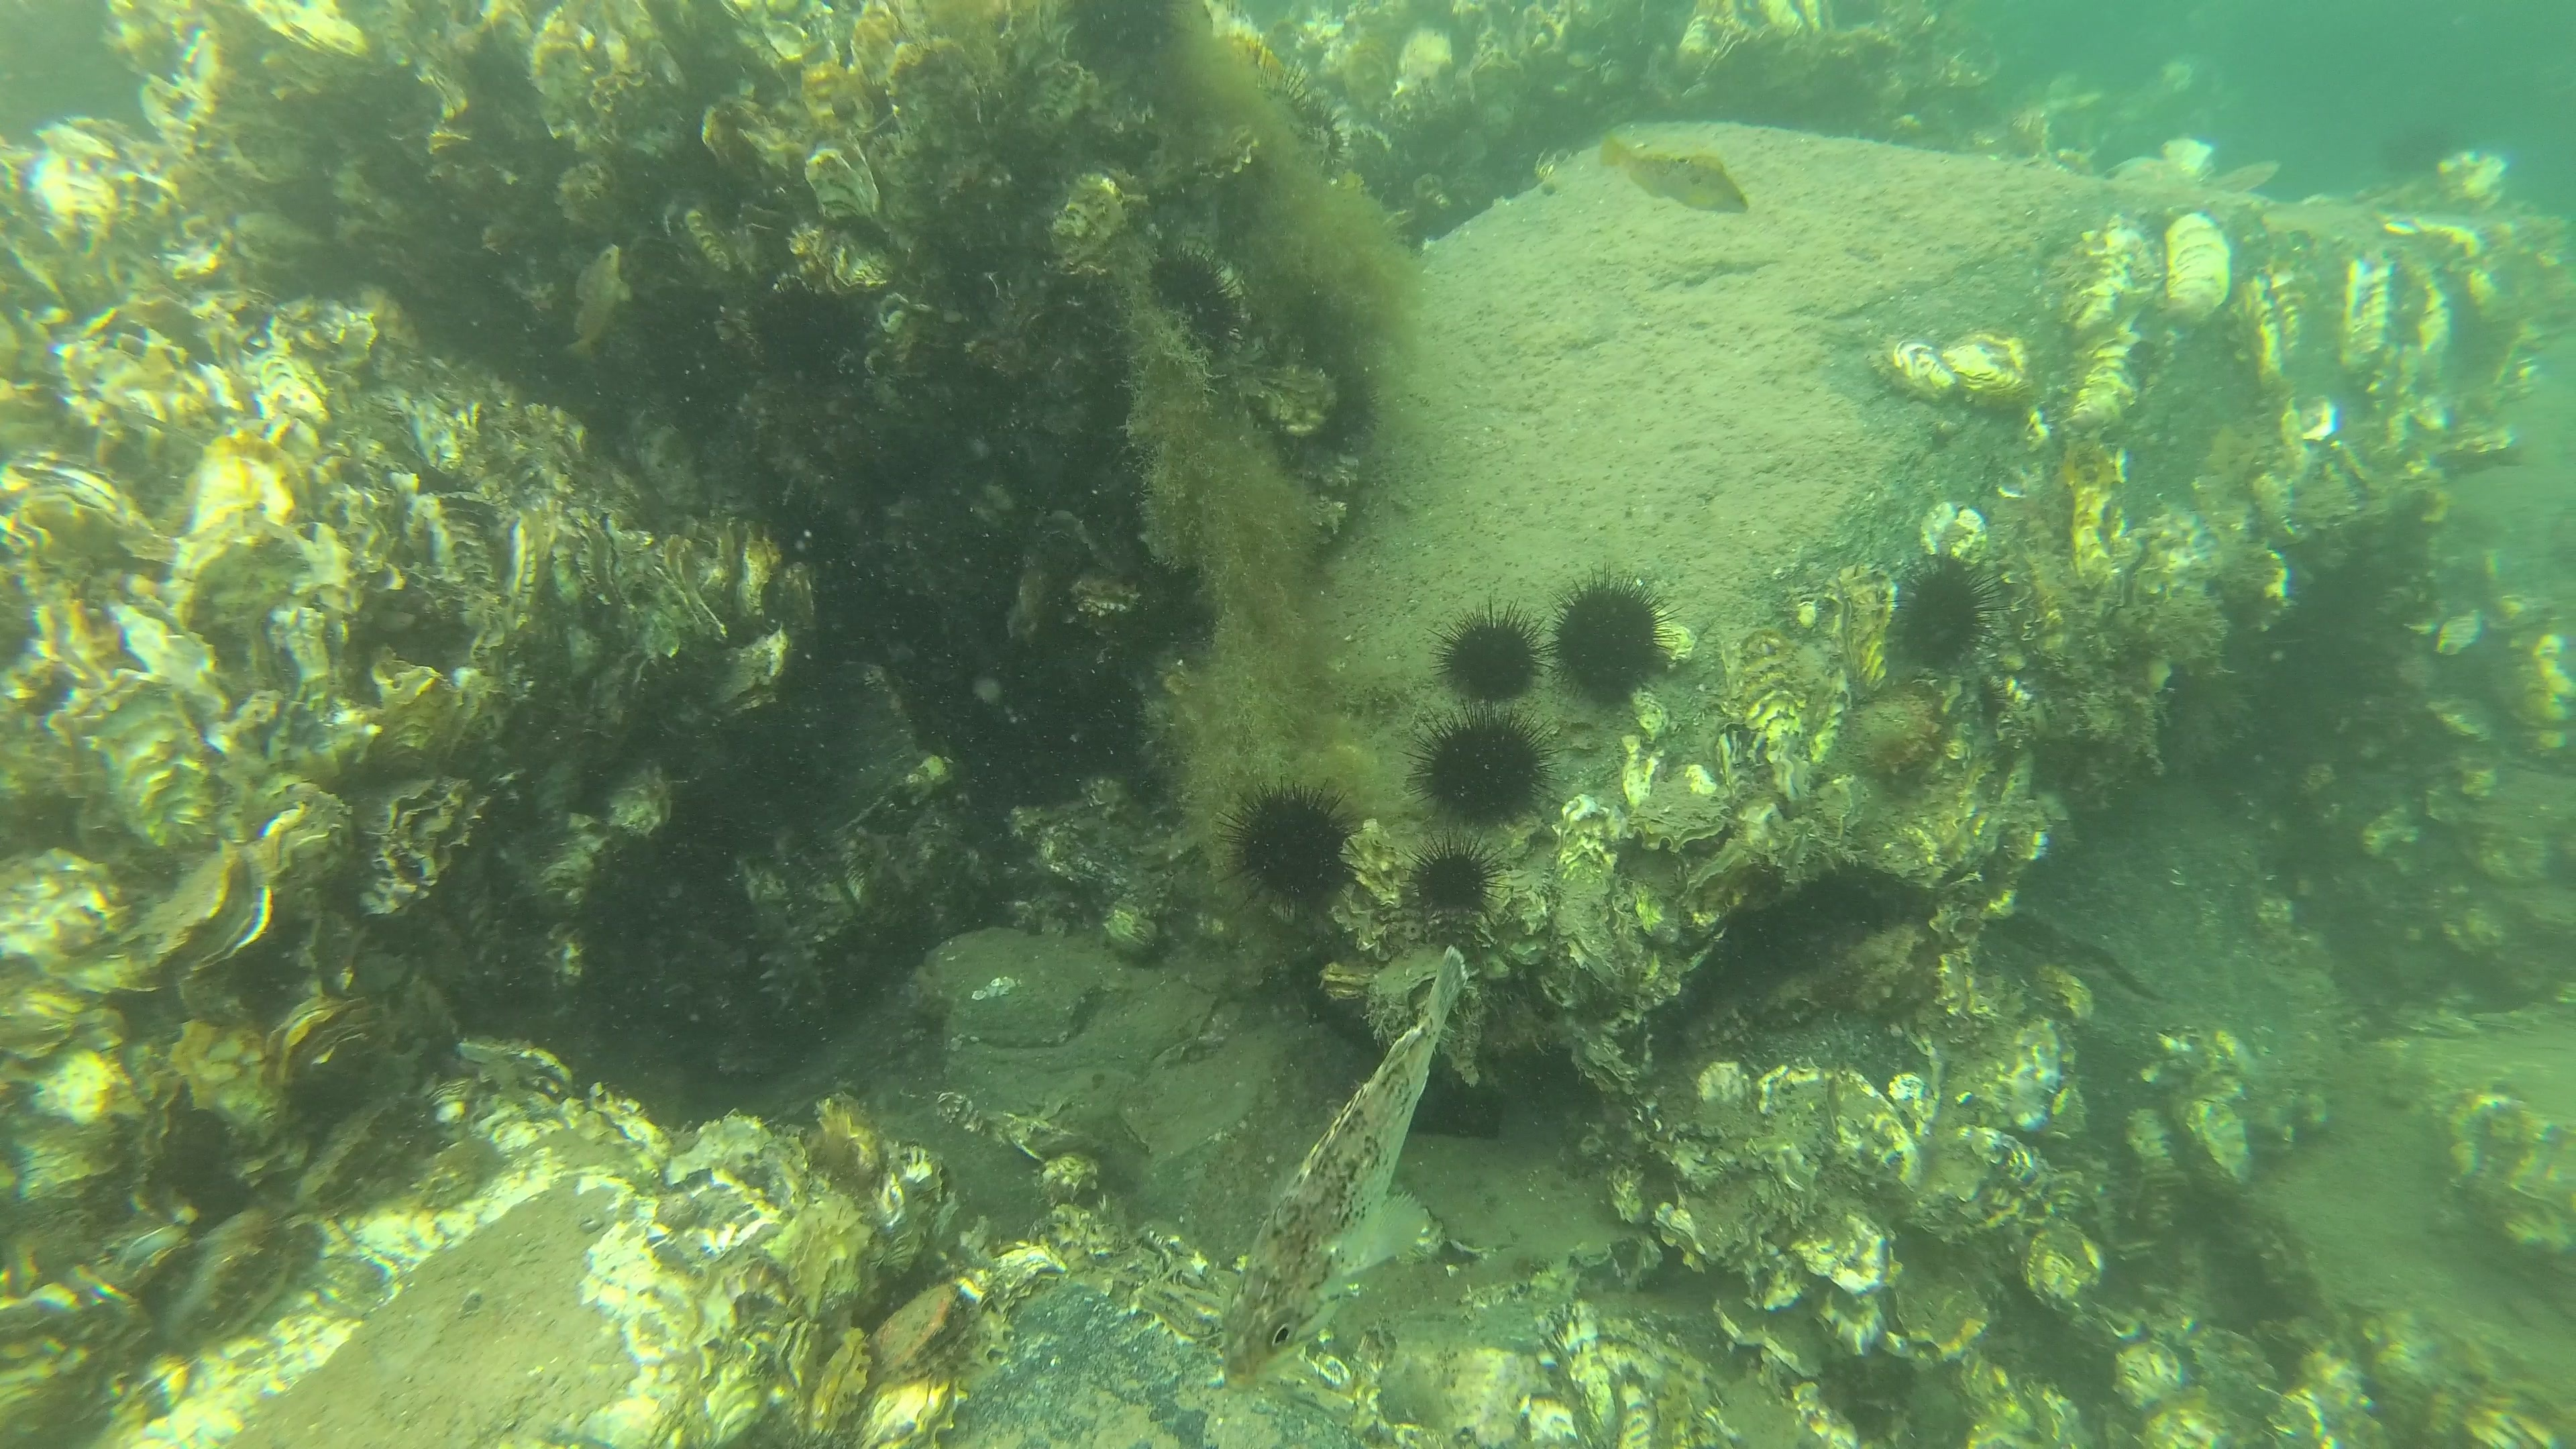echinus: (1217, 777, 1357, 927), (1550, 561, 1677, 713), (1407, 708, 1564, 830), (1882, 550, 2005, 681), (1145, 228, 1254, 364), (1422, 600, 1555, 704), (1403, 833, 1507, 924)
